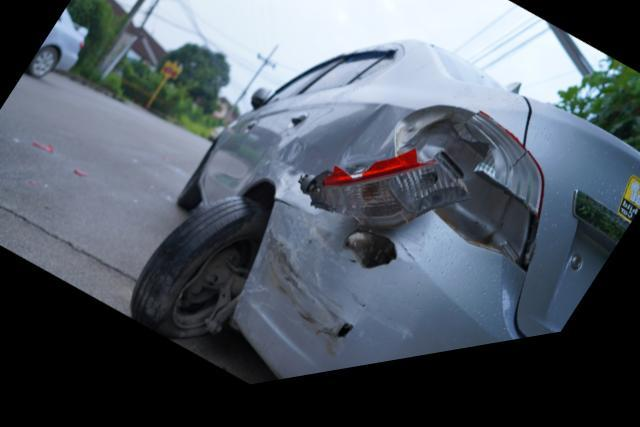crack: (341, 240, 400, 282)
dent: (272, 116, 393, 199)
lamp broken: (296, 124, 544, 284)
scratch: (241, 221, 378, 374)
tire flat: (131, 201, 268, 346)
